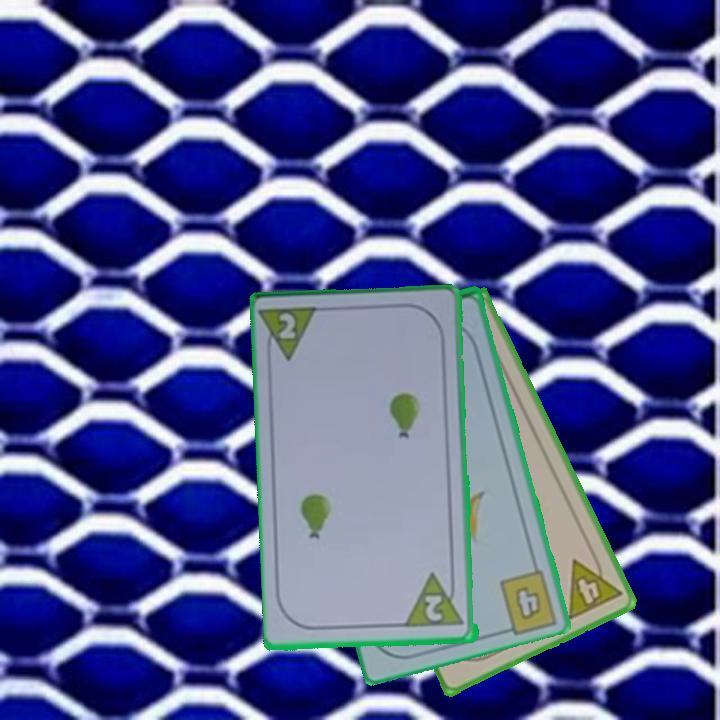2p: (259, 303, 324, 366), (404, 570, 468, 631)
4b: (512, 583, 545, 624)
4p: (564, 547, 625, 623)
